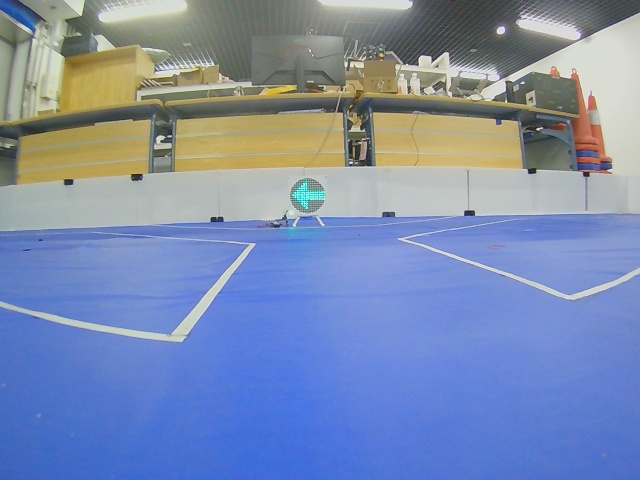left_green: (290, 178, 326, 213)
